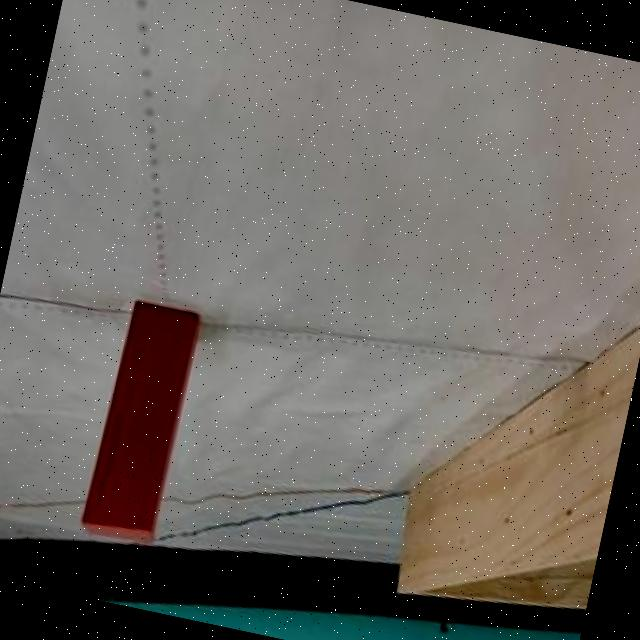redbox: (76, 296, 208, 549)
